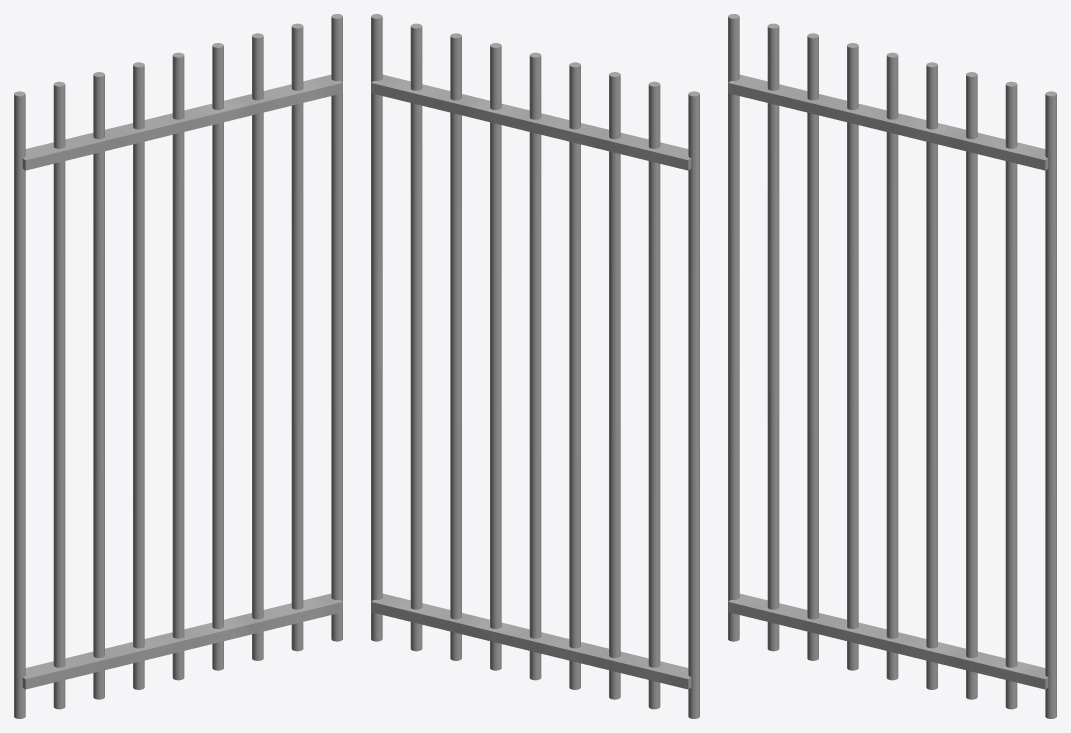
The model's file is steel_fence.obj.
3 views of the same model, side by side, from view 1: azimuth 30°, elevation 25°; view 2: azimuth 150°, elevation 25°; view 3: azimuth 330°, elevation 25° (orthographic).
Visible parts, largest first — view 1: cylinder, cube; view 2: cylinder, cube; view 3: cylinder, cube.
Boxes of the visible parts, bbox=[...] form: cylinder: bbox=[14, 14, 342, 718]; cube: bbox=[22, 74, 342, 689]; cylinder: bbox=[371, 14, 699, 718]; cube: bbox=[371, 74, 691, 689]; cylinder: bbox=[728, 14, 1056, 718]; cube: bbox=[728, 74, 1048, 689].
Size of the model in its own units: 1.03 by 1.88 by 0.0625.
1 material, 1 textured.
